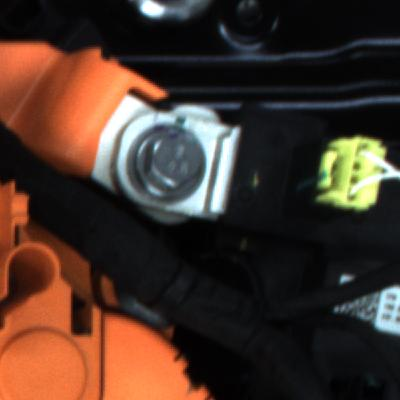nut_b: (123, 117, 222, 213)
